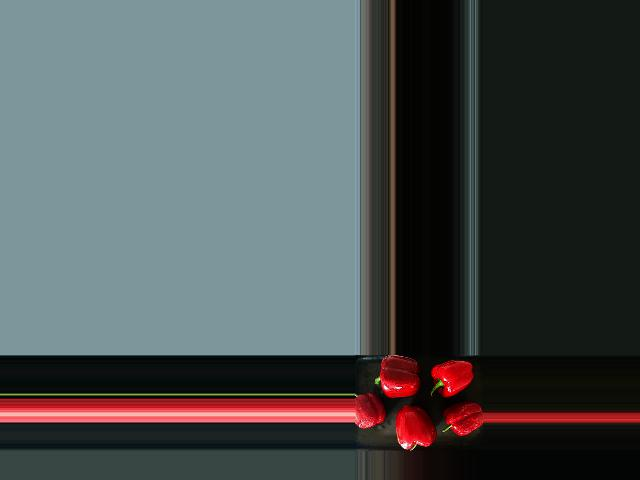bell_pepper: (355, 390, 387, 435)
